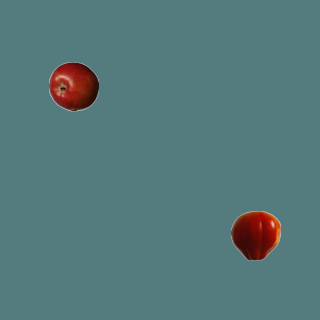Apple Braeburn: (48, 61, 98, 111)
Tomato 1: (230, 210, 280, 260)
